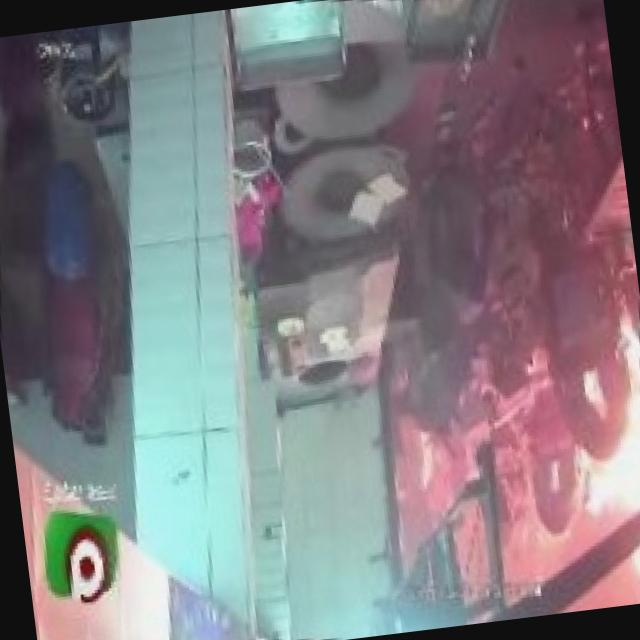fire: (505, 381, 640, 616)
